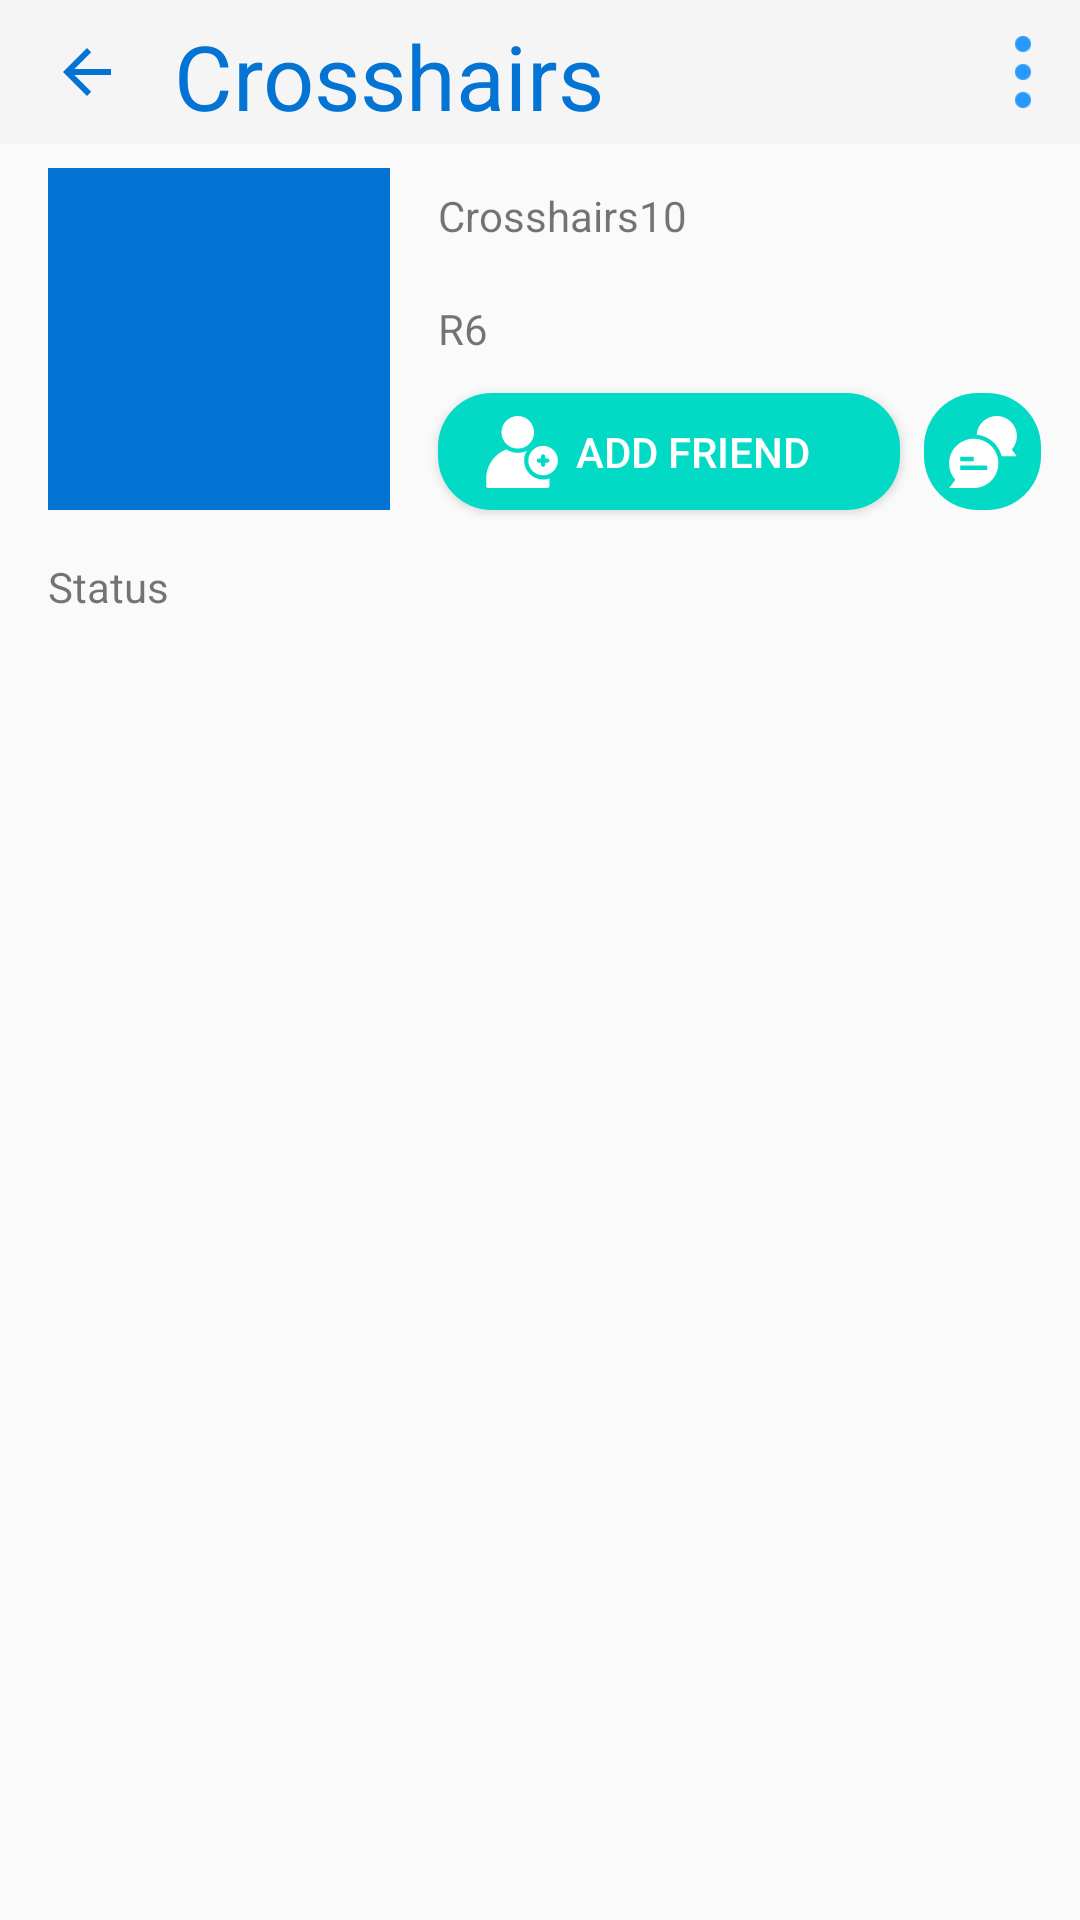

Named icons in this screenshot (1080 x 1920) and their bounding boxes, (x1, y1, x2, y2):
chat: (924, 393, 1041, 510)
more: (1015, 36, 1031, 108)
